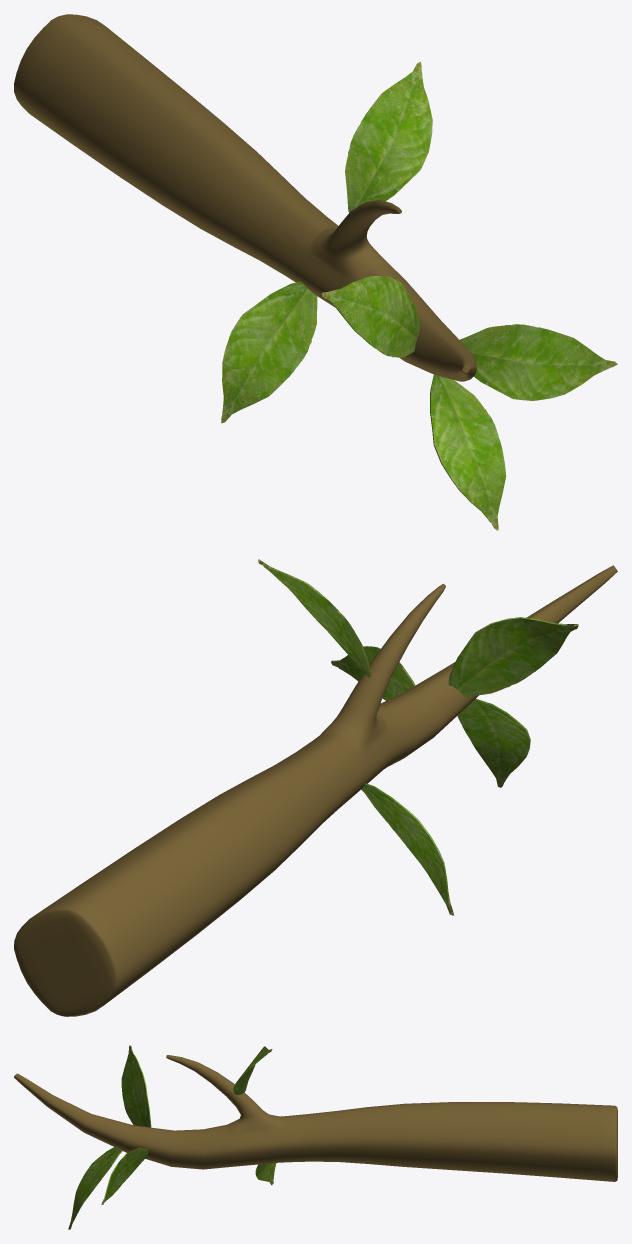
Rendered from Branch_Small.fbx.
The picture shows the model from 3 angles, top to bottom: view 1: azimuth 30°, elevation 25°; view 2: azimuth 150°, elevation 25°; view 3: azimuth 270°, elevation 25°; orthographic projection. The views are drawn at different scales.
Visible parts, largest first — view 1: Branch_0008:pCube1, Branch_0008:pPlane104; view 2: Branch_0008:pCube1, Branch_0008:pPlane104; view 3: Branch_0008:pCube1, Branch_0008:pPlane104.
Boxes of the visible parts, left/top/right/bottom form: Branch_0008:pCube1: left=14, top=14, right=476, bottom=381; Branch_0008:pPlane104: left=221, top=61, right=617, bottom=530; Branch_0008:pCube1: left=14, top=565, right=617, bottom=1016; Branch_0008:pPlane104: left=258, top=559, right=578, bottom=915; Branch_0008:pCube1: left=14, top=1055, right=617, bottom=1181; Branch_0008:pPlane104: left=68, top=1045, right=276, bottom=1229.
Size of the model in its own units: 3.16 by 3.64 by 9.63.
